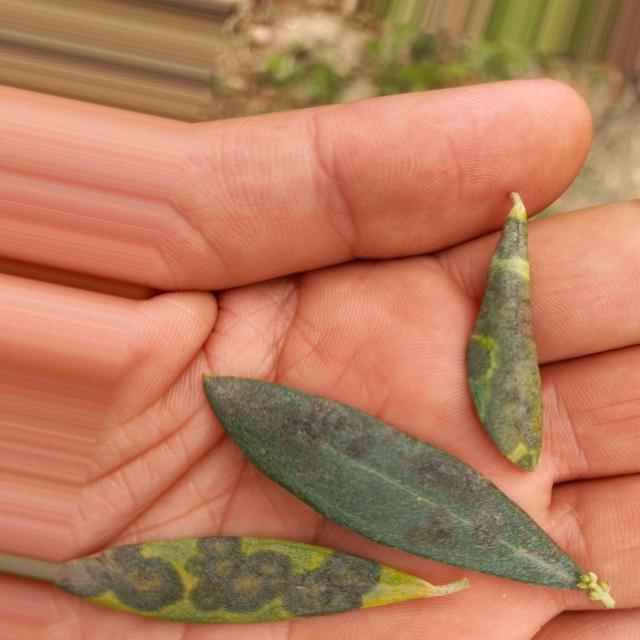OlivePeacockSpot: (204, 376, 614, 608), (58, 537, 468, 623), (467, 194, 542, 471)
